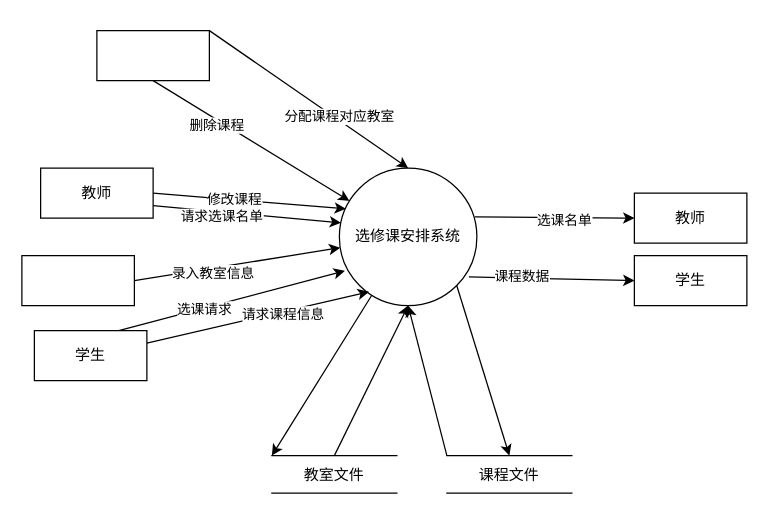
Image size: 769x515. Some labels were removed from this diagram. The centre of each missing label's shape, as x and y in pixels:
教务处: point (152, 55)
管理员: point (77, 280)
